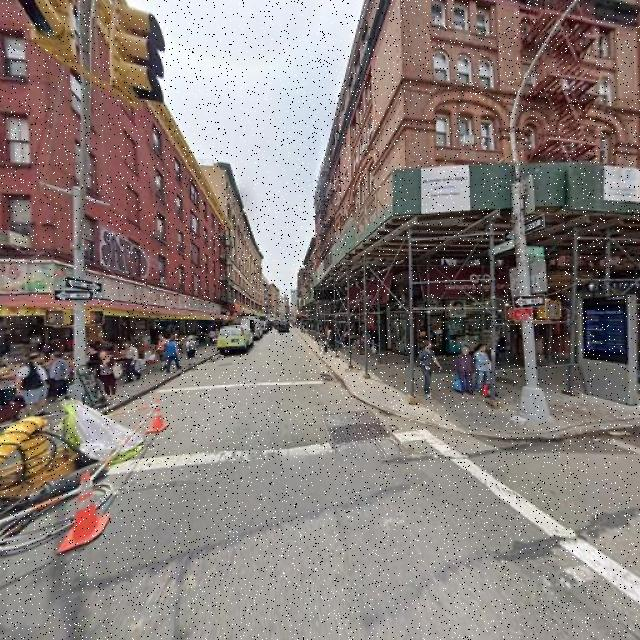Building: (315, 1, 640, 355), (1, 1, 227, 374)
